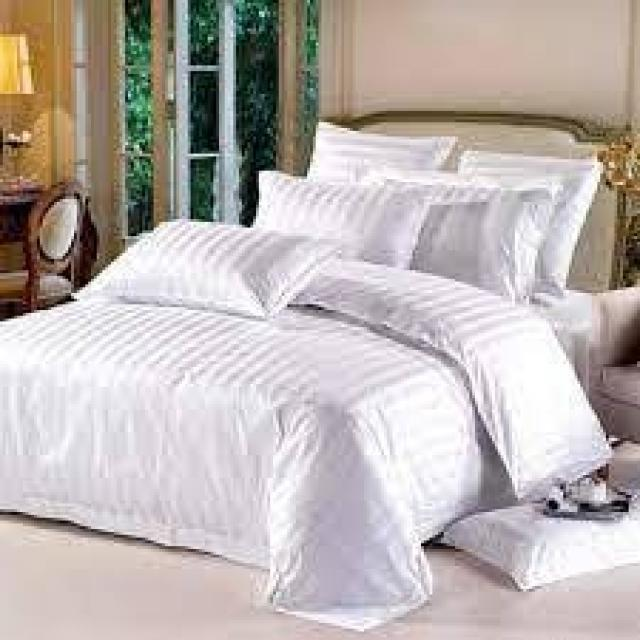bed: (0, 108, 637, 632)
